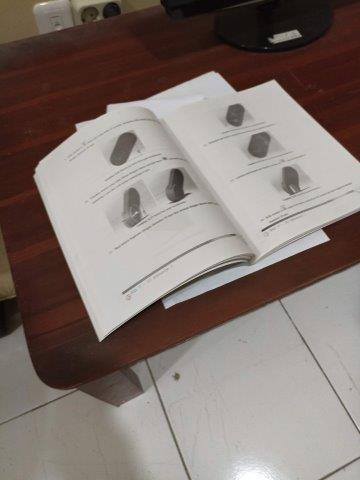kertas: (34, 71, 360, 342)
